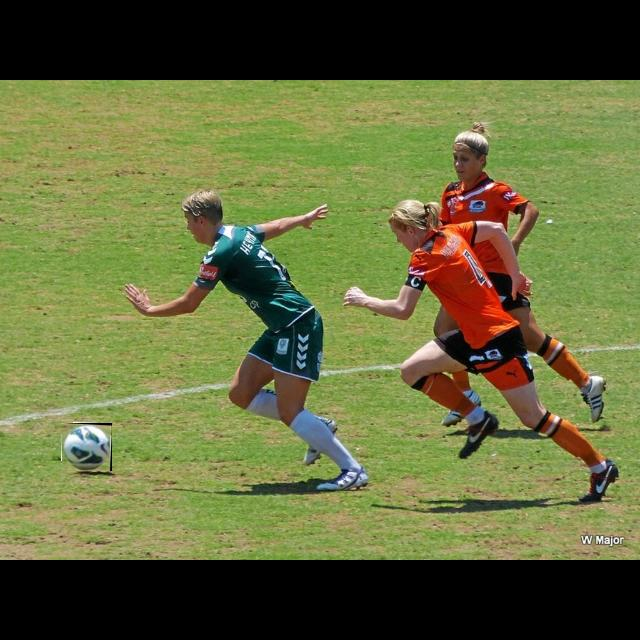Football: (62, 423, 112, 471)
